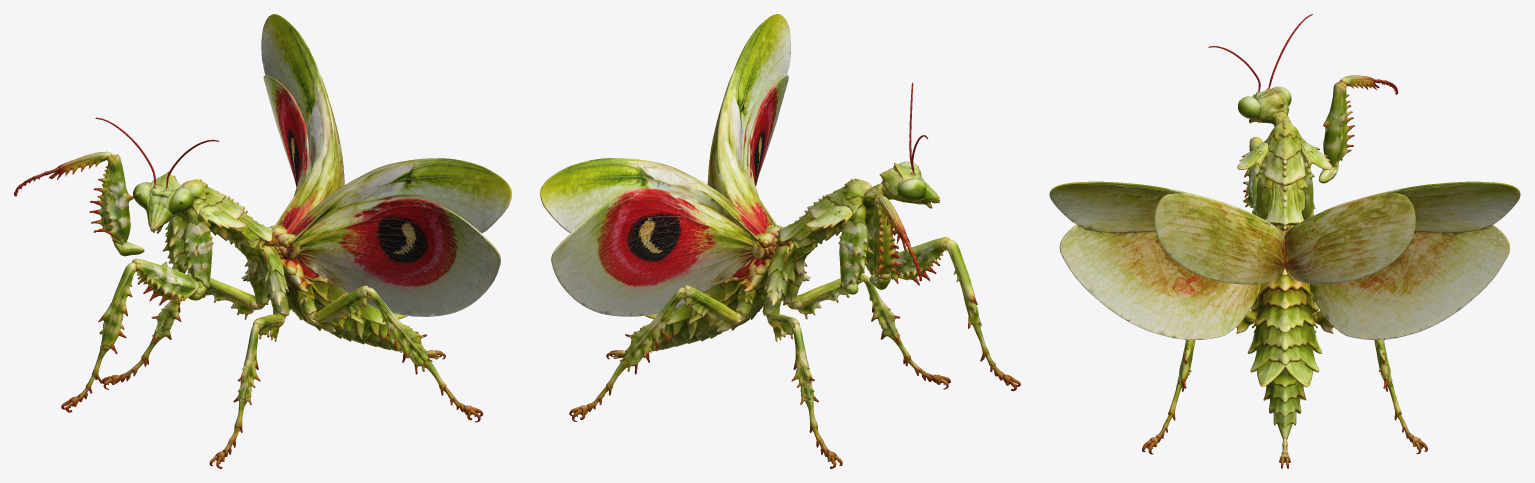
Rendered from praying-mantis.glb.
The picture shows the model from 3 angles, left to right: view 1: azimuth 30°, elevation 25°; view 2: azimuth 150°, elevation 25°; view 3: azimuth 270°, elevation 25°; orthographic projection. The views are drawn at different scales.
Parts seen in each view (by area): view 1: tripo_node_be242de8-2a90-436a-b780-bc71cc47edc3; view 2: tripo_node_be242de8-2a90-436a-b780-bc71cc47edc3; view 3: tripo_node_be242de8-2a90-436a-b780-bc71cc47edc3.
Boxes of the visible parts, box(x1,y1,x2,y2) form: tripo_node_be242de8-2a90-436a-b780-bc71cc47edc3: box(14, 14, 511, 468); tripo_node_be242de8-2a90-436a-b780-bc71cc47edc3: box(540, 14, 1020, 468); tripo_node_be242de8-2a90-436a-b780-bc71cc47edc3: box(1049, 14, 1520, 468).
Size of the model in its own units: 0.9162 by 0.6909 by 0.9812.
1 material, 1 textured.
